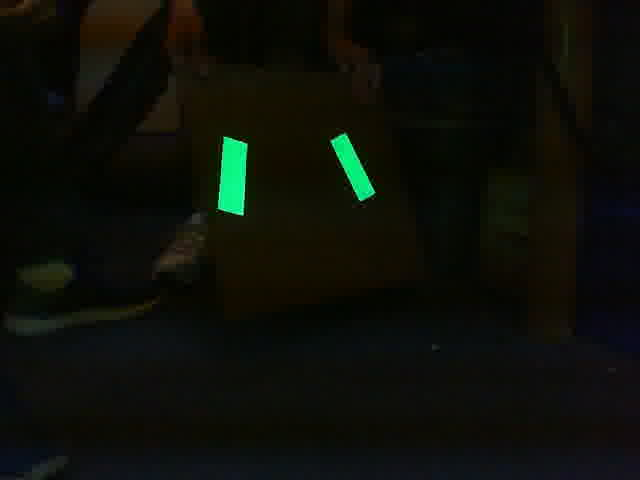target: (218, 132, 376, 217)
